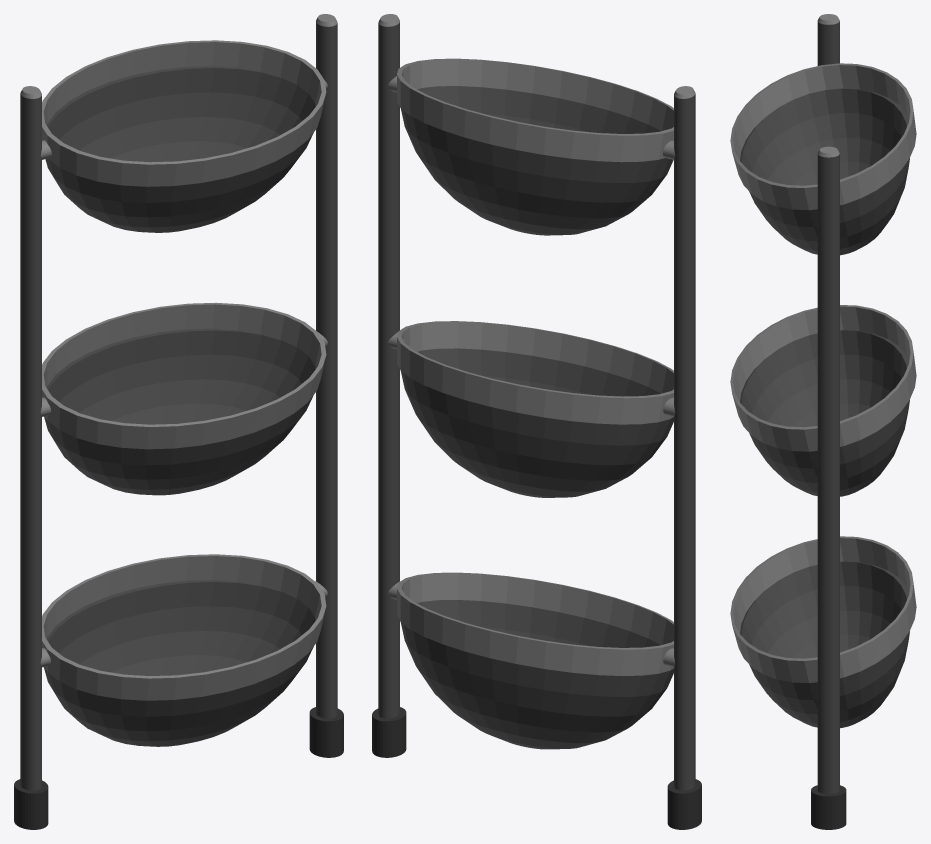
Rendered from Three Basket Rack.fbx.
3 renders of one model, left to right at view 1: azimuth 30°, elevation 25°; view 2: azimuth 150°, elevation 25°; view 3: azimuth 270°, elevation 25°, orthographic. The views are drawn at different scales.
Visible parts, largest first — view 1: Three Basket Rack; view 2: Three Basket Rack; view 3: Three Basket Rack.
Part boxes in pixels (box(x1,y1,x2,y2)): Three Basket Rack: box(14, 14, 343, 829); Three Basket Rack: box(372, 14, 701, 829); Three Basket Rack: box(730, 14, 916, 829).
Size of the model in its own units: 61.24 by 132 by 33.14.
Materials: 1 (1 with a texture image).
